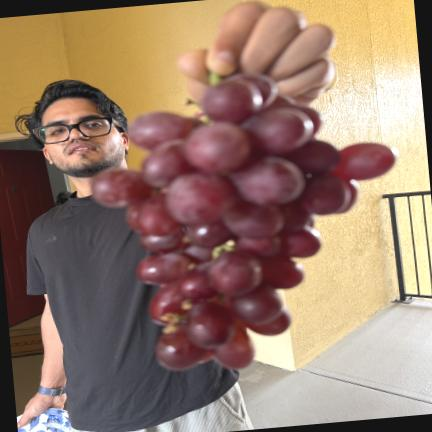grape_cluster: (92, 74, 396, 370)
